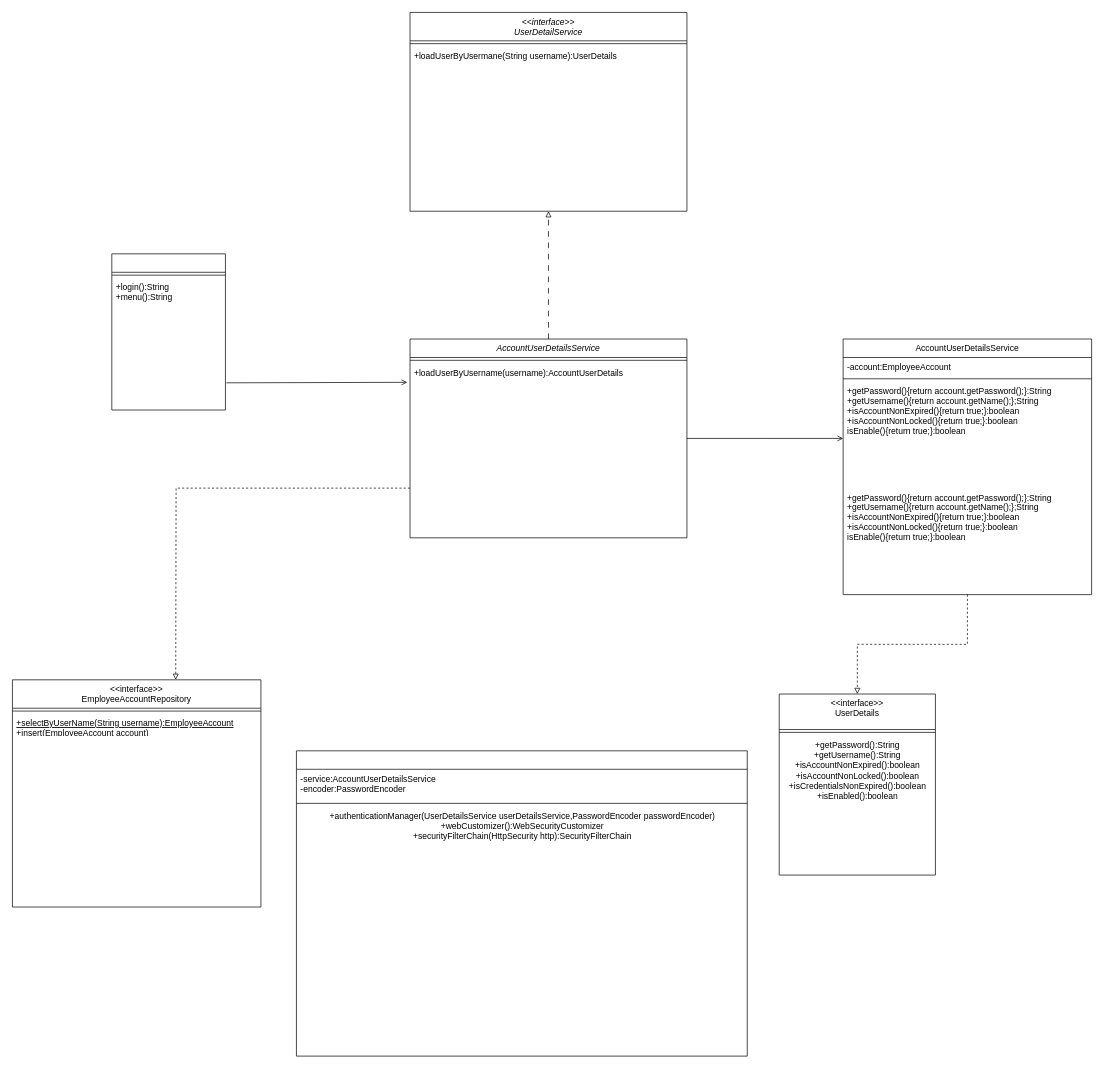
Image size: 1104x1069. Some labels were removed from this diagram. The shapes that lost their labels are listed below. From the top down, each one's box as (x1, y1, x2, y2) in pixels, then its label:
(111, 253, 225, 410): LoginController
(296, 750, 747, 1056): SpringSecurity
